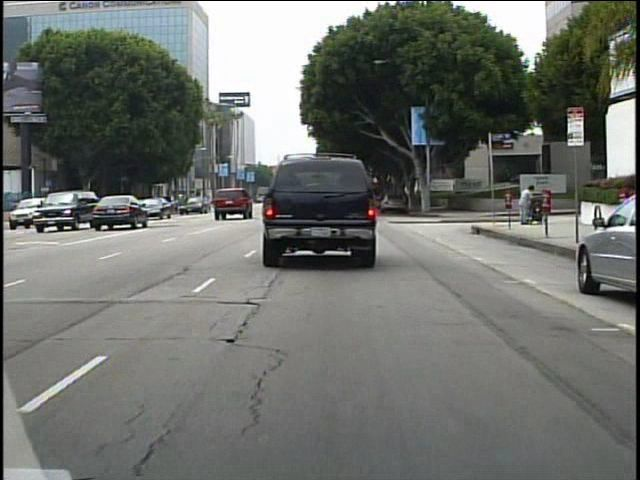person: (516, 180, 536, 230)
